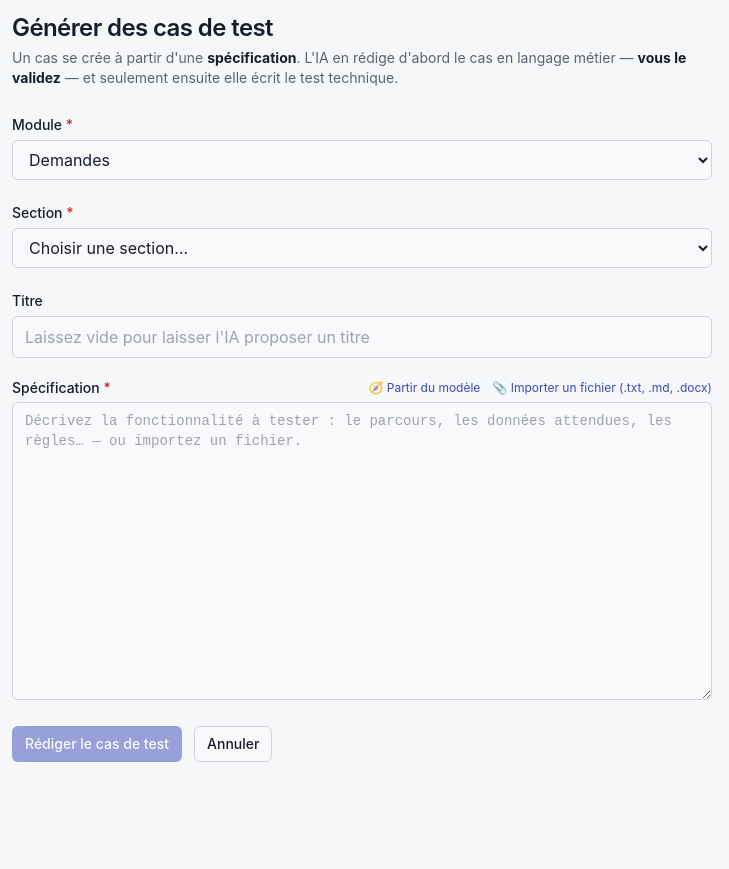
it: « + Créer une section… », AVANT le premier appel LLM › une erreur de création REMONTE sans lancer addCase (pas de dépense pour rien)
The image size is (729, 869).
Replace the text in the text box with "La spécification" at x=362, y=551, box [12,402,712,700]
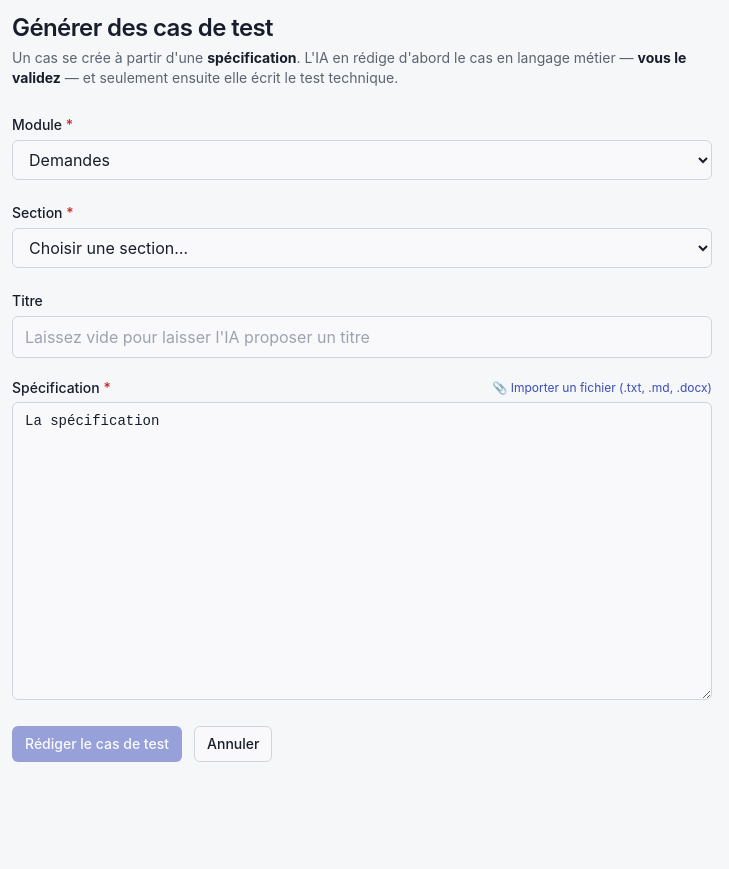
Select "+ Créer une section…" in the dropdown labelled "Section *" at x=362, y=248, box [12,228,712,268]
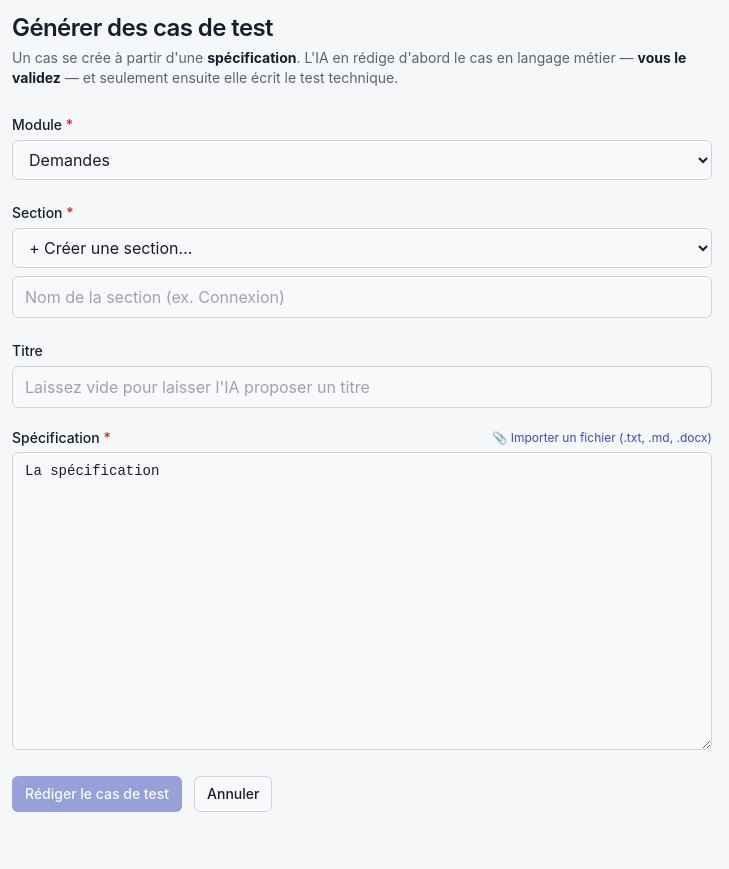
Type "Toute nouvelle" into the field with placeholder "Nom de la section (ex. Connexion)" at x=362, y=297, box [12,276,712,318]
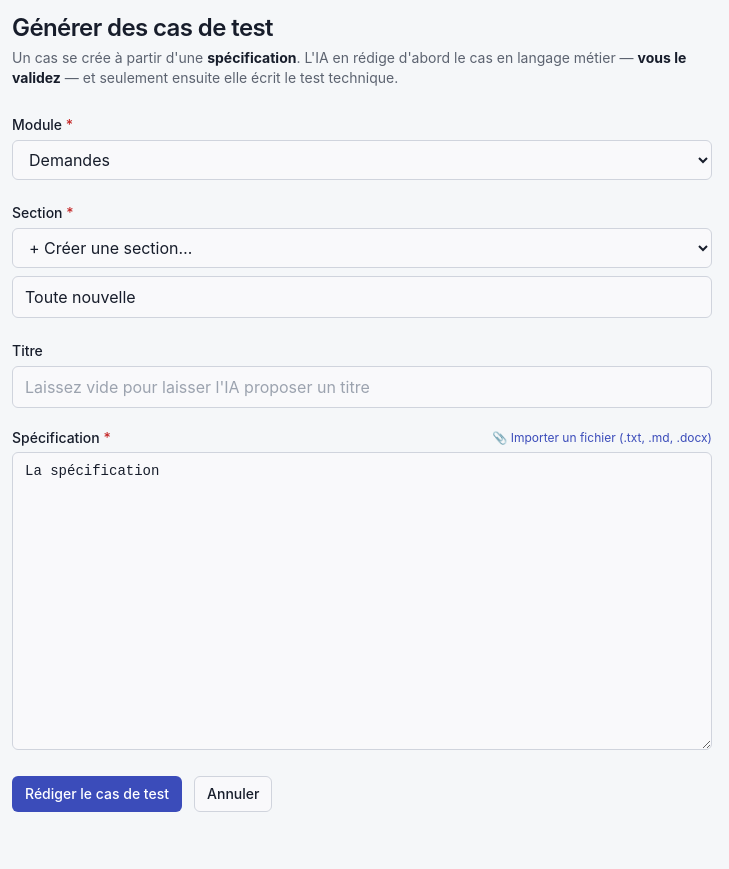
Submit the form
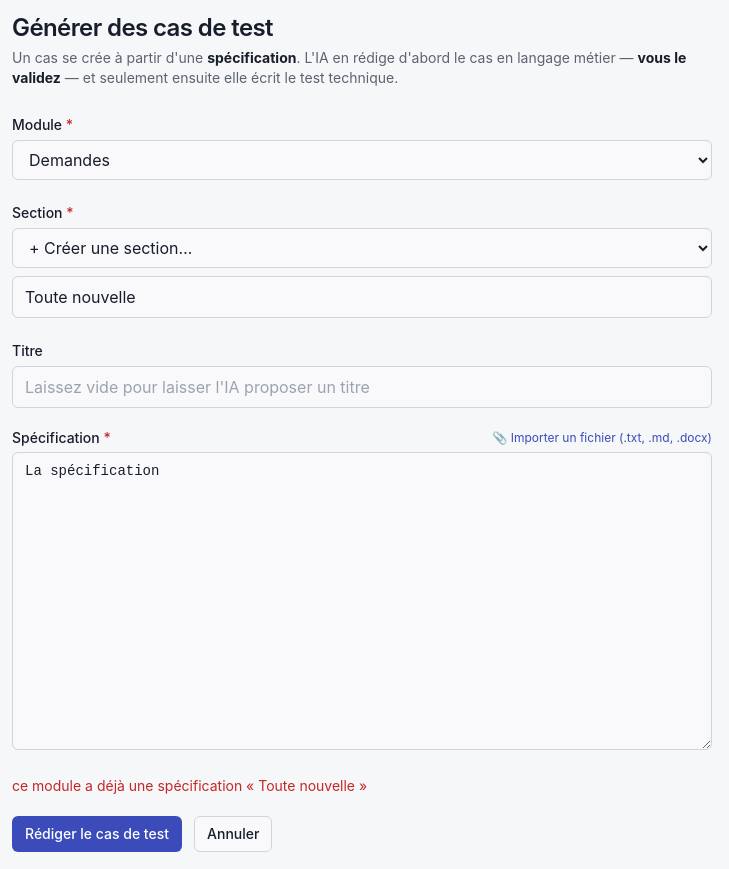
Check: the text "déjà une spécification" is shown, box [12,777,367,794]
